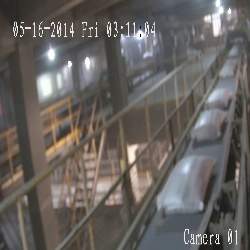cementbag: (156, 154, 215, 214), (191, 108, 226, 140), (205, 88, 232, 107)
